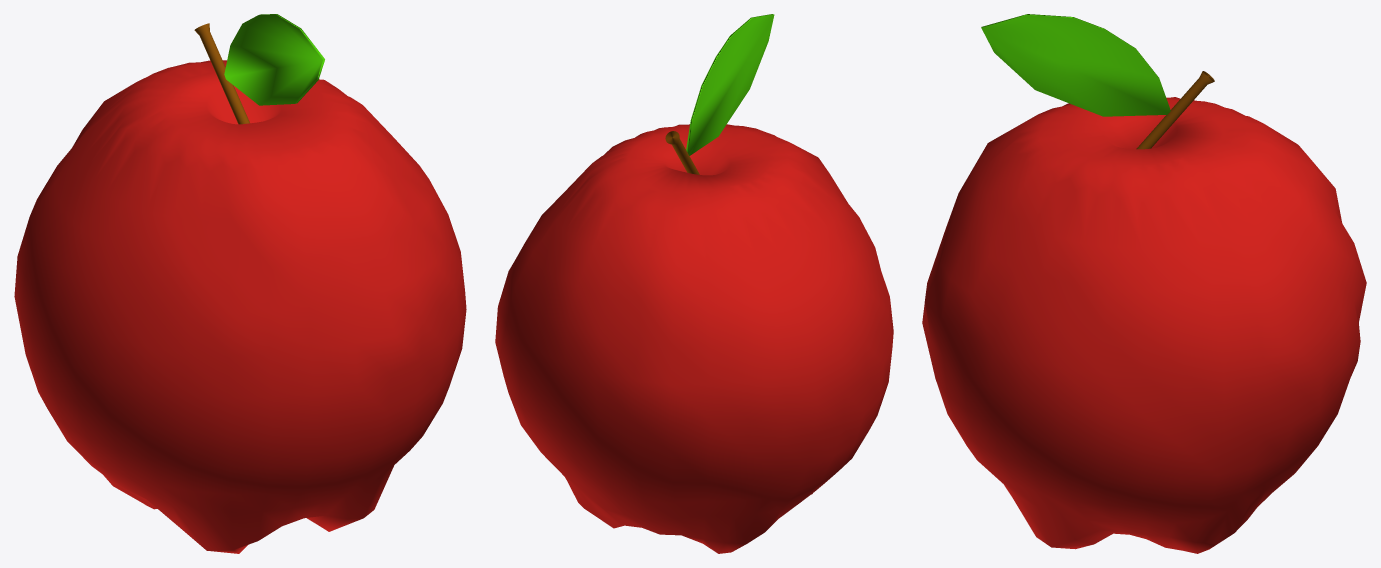
Rendered from Apple v726.fbx.
The picture shows the model from 3 angles, left to right: view 1: azimuth 30°, elevation 25°; view 2: azimuth 150°, elevation 25°; view 3: azimuth 270°, elevation 25°; orthographic projection. The views are drawn at different scales.
Visible parts, largest first — view 1: Apple; view 2: Apple; view 3: Apple.
Boxes of the visible parts, bbox=[...] form: Apple: bbox=[14, 14, 466, 553]; Apple: bbox=[495, 14, 893, 553]; Apple: bbox=[922, 14, 1366, 553].
Bounding box in the file's own units: 739 × 963 × 763.
